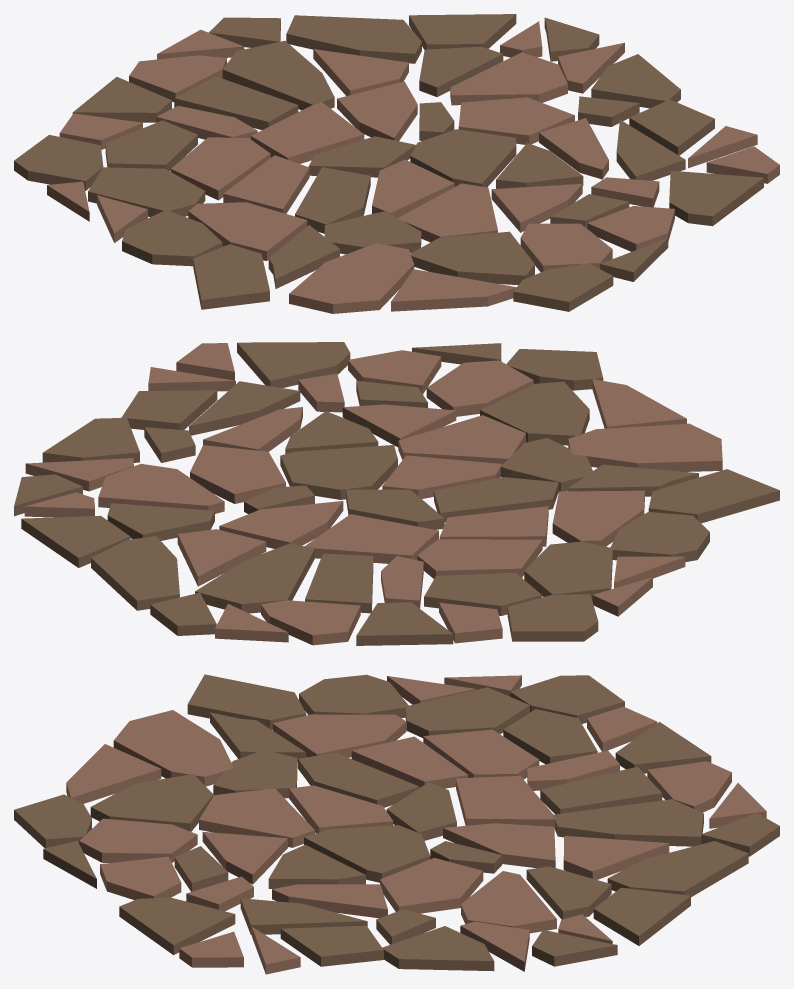
Rendered from dryed_tile_type1.fbx.
The picture shows the model from 3 angles, top to bottom: view 1: azimuth 30°, elevation 25°; view 2: azimuth 150°, elevation 25°; view 3: azimuth 270°, elevation 25°; orthographic projection. The views are drawn at different scales.
Visible parts, largest first — view 1: Plane.003; view 2: Plane.003; view 3: Plane.003.
Boxes of the visible parts, x1,y1,x2,y2 form: Plane.003: [14, 14, 779, 313]; Plane.003: [14, 342, 779, 645]; Plane.003: [14, 674, 779, 974].
Bounding box in the file's own units: 2033 × 32.87 × 2268.
